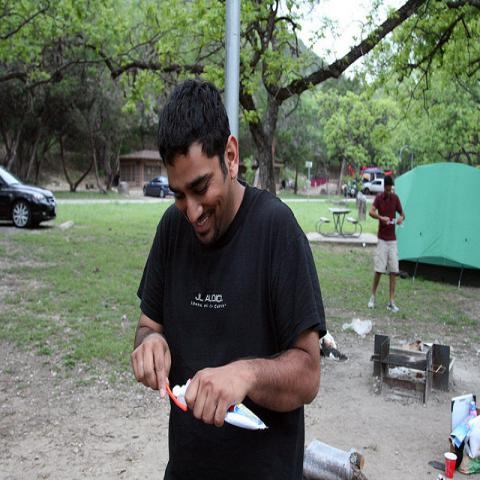car: (0, 164, 57, 228), (361, 178, 394, 196), (143, 176, 169, 198), (310, 172, 327, 188)
